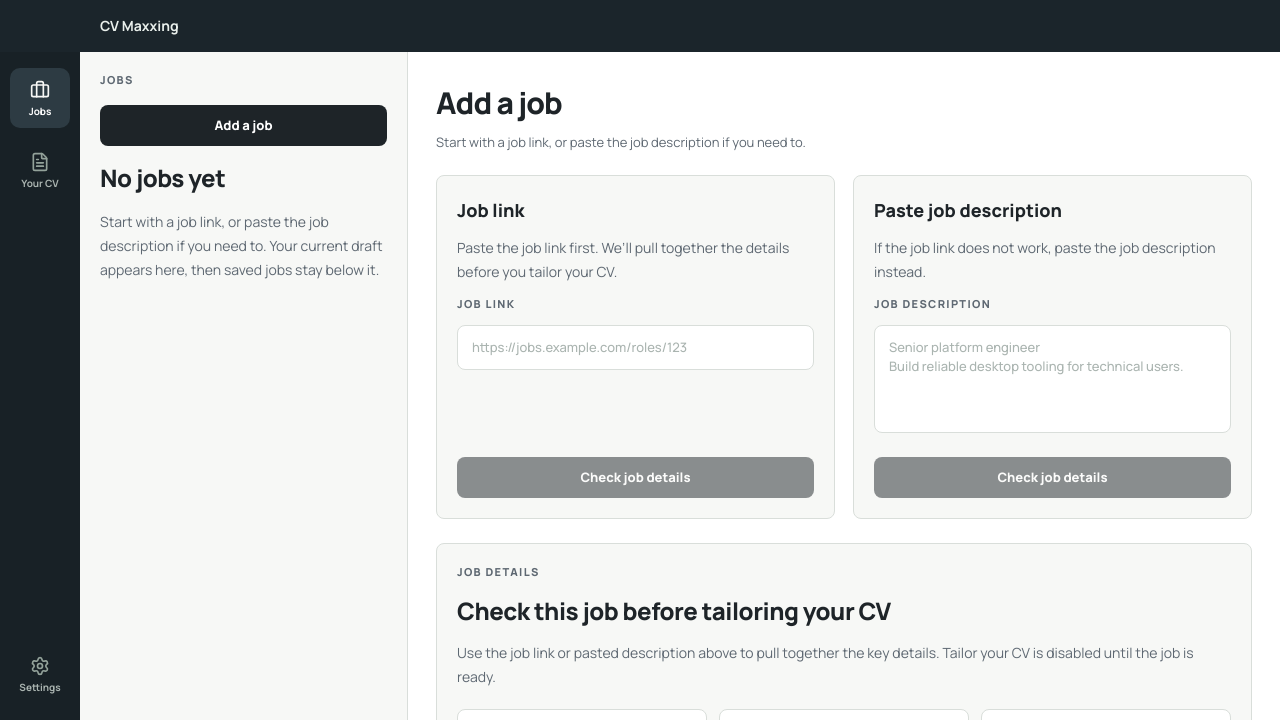
Test case: refreshes the vacancy workspace query after review instead of rendering the mutation payload
Check: the heading "Add a job" is shown, box [436,82,562,123]
Check: the text box labelled "Job description" is empty, box [874,325,1231,433]
Type "https://jobs.example.com/mutation-reviewed-role" into the field labelled "Job link".
click(636, 347); type("https://jobs.example.com/mutation-reviewed-role")  # box [457,325,814,370]
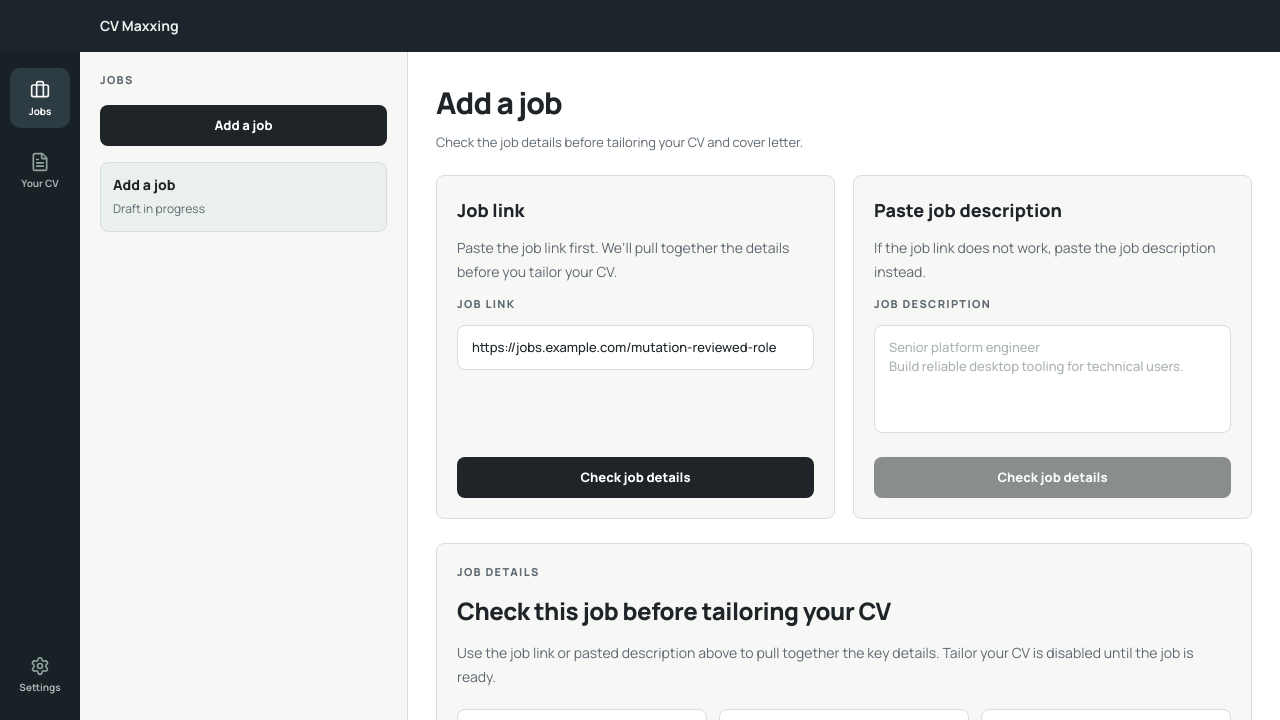
Replace the text in the text box labelled "Job description" with "Mutation payload reviewed vacancy draft." at (1052, 379), box [874,325,1231,433]
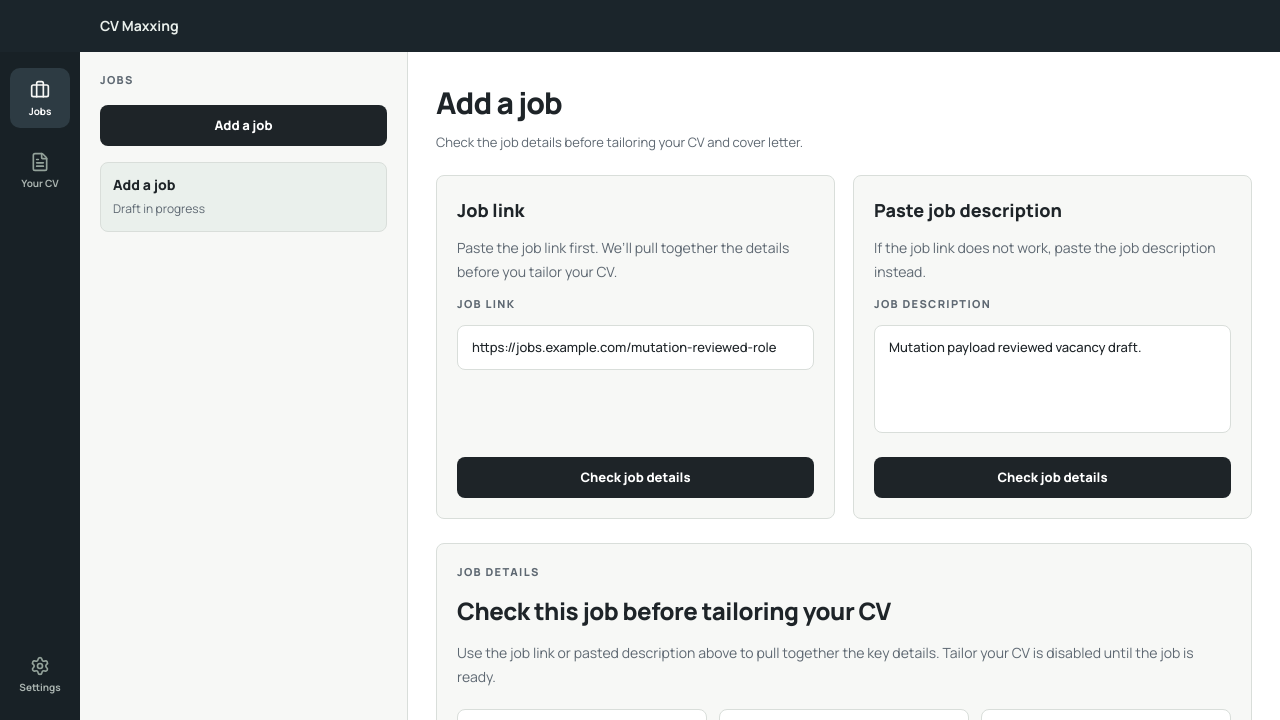
Click the button "Check job details" below "Paste job description".
click(1052, 477)  # box [874,457,1231,498]
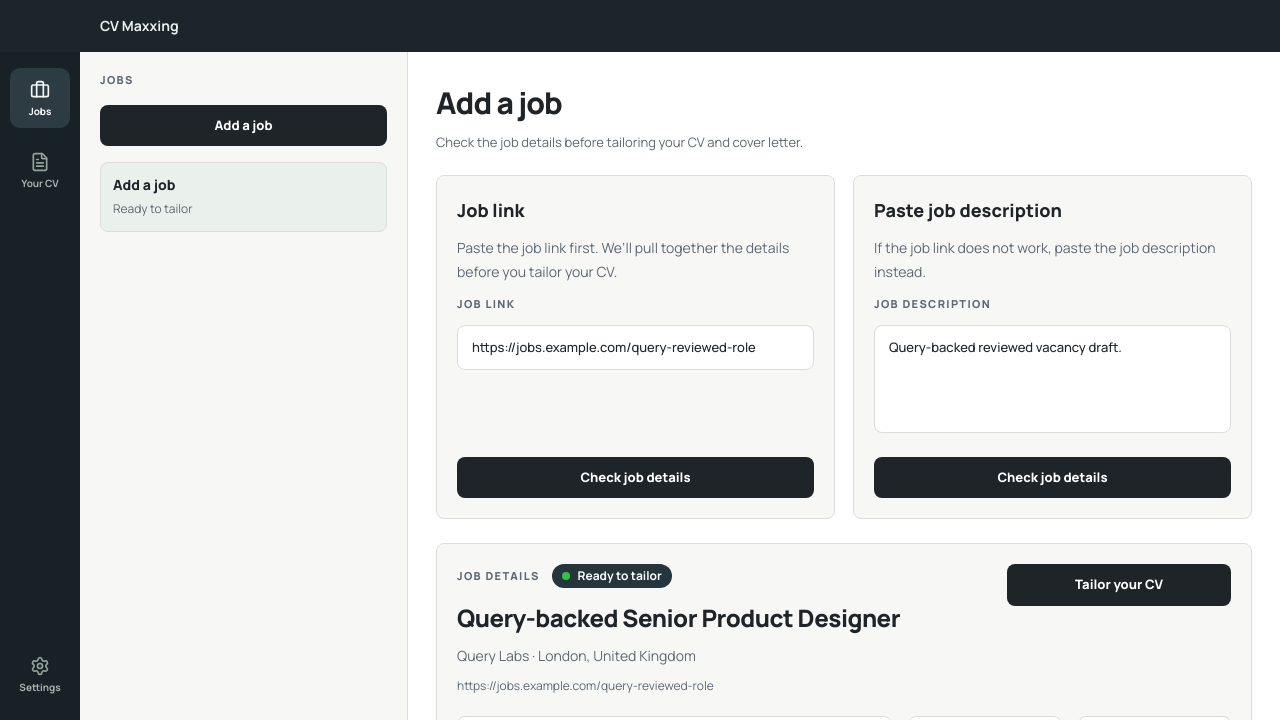
Check: the heading "Query-backed Senior Product Designer" is shown, box [457,601,900,634]
Check: the field labelled "Job link" holds "https://jobs.example.com/query-reviewed-role", box [457,325,814,370]
Check: the text box labelled "Job description" holds "Query-backed reviewed vacancy draft.", box [874,325,1231,433]
